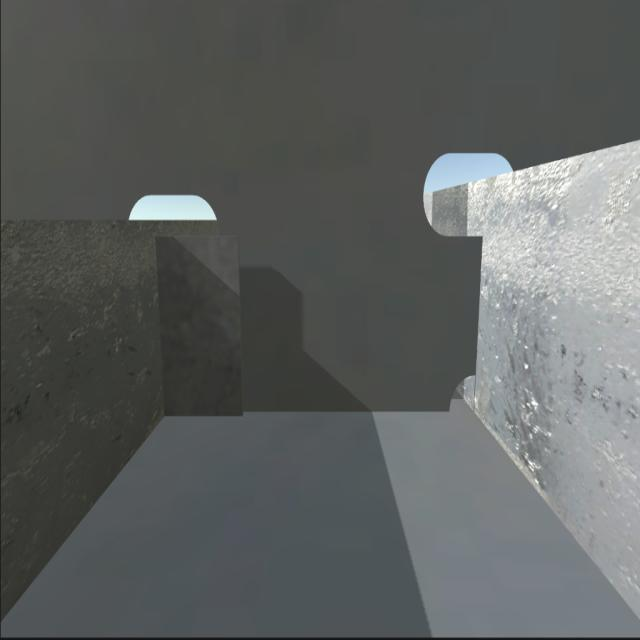fillet_hole: (445, 370, 479, 414)
fillet_yong_jeop_jang: (161, 401, 450, 419)
longi_yong_jeop_jang: (152, 238, 172, 414), (469, 234, 483, 374)
plate_CP01: (158, 236, 247, 419)
